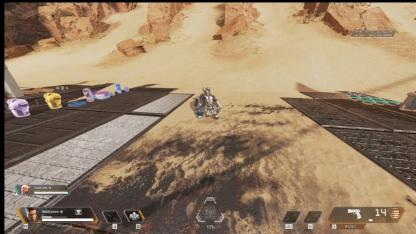Target: (195, 88, 221, 118)
